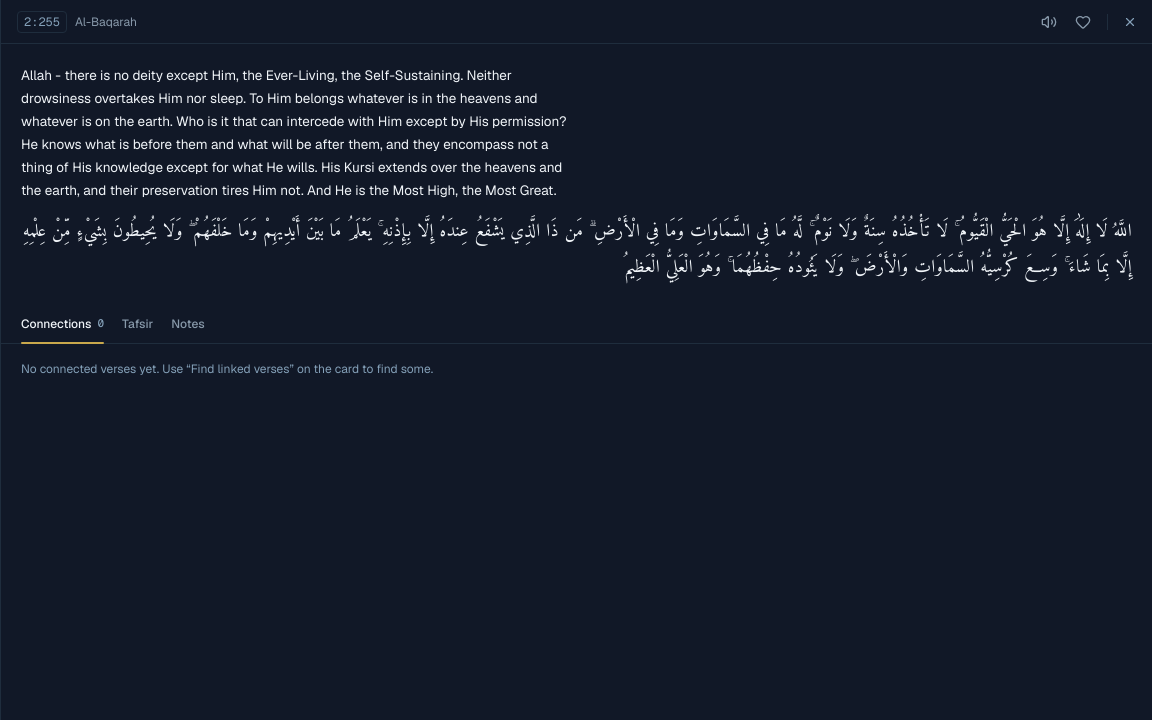
Scenario: ContextSidebar — notes load › shows existing notes after an expired token is refreshed, instead of an empty list
This screenshot has width=1152, height=720.
Click the tab "Notes" at (188, 323), box [163,304,213,343]
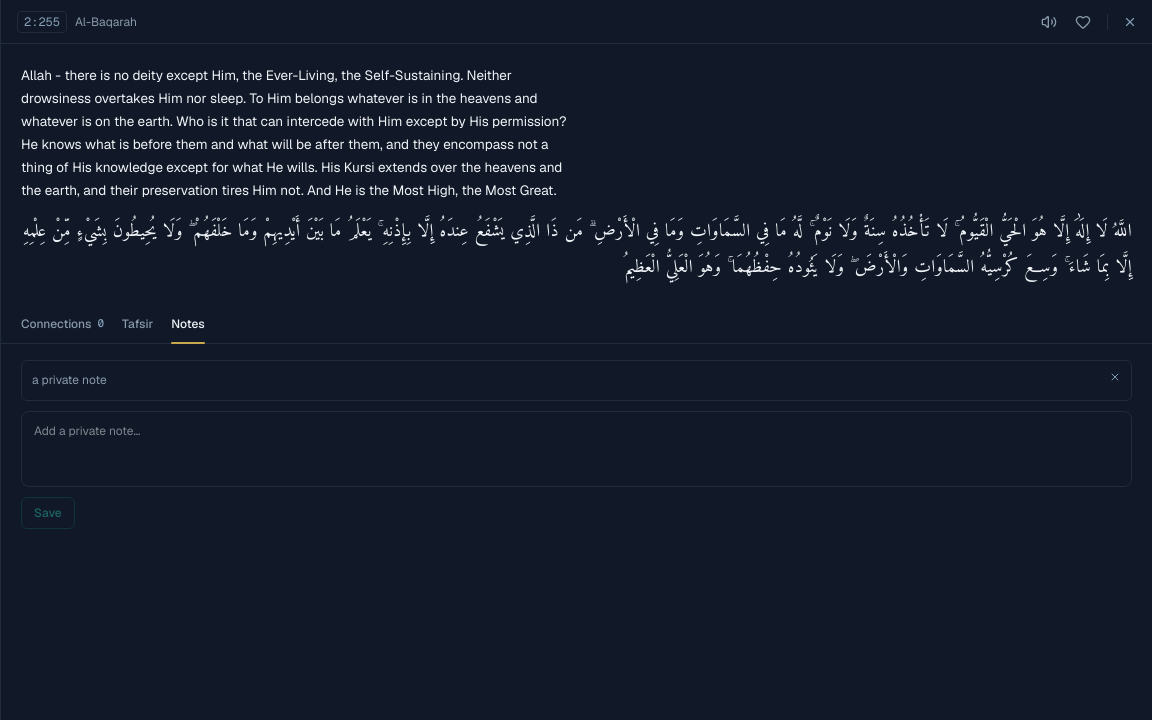
Result: the text "a private note" is shown at [32,372,107,388]
